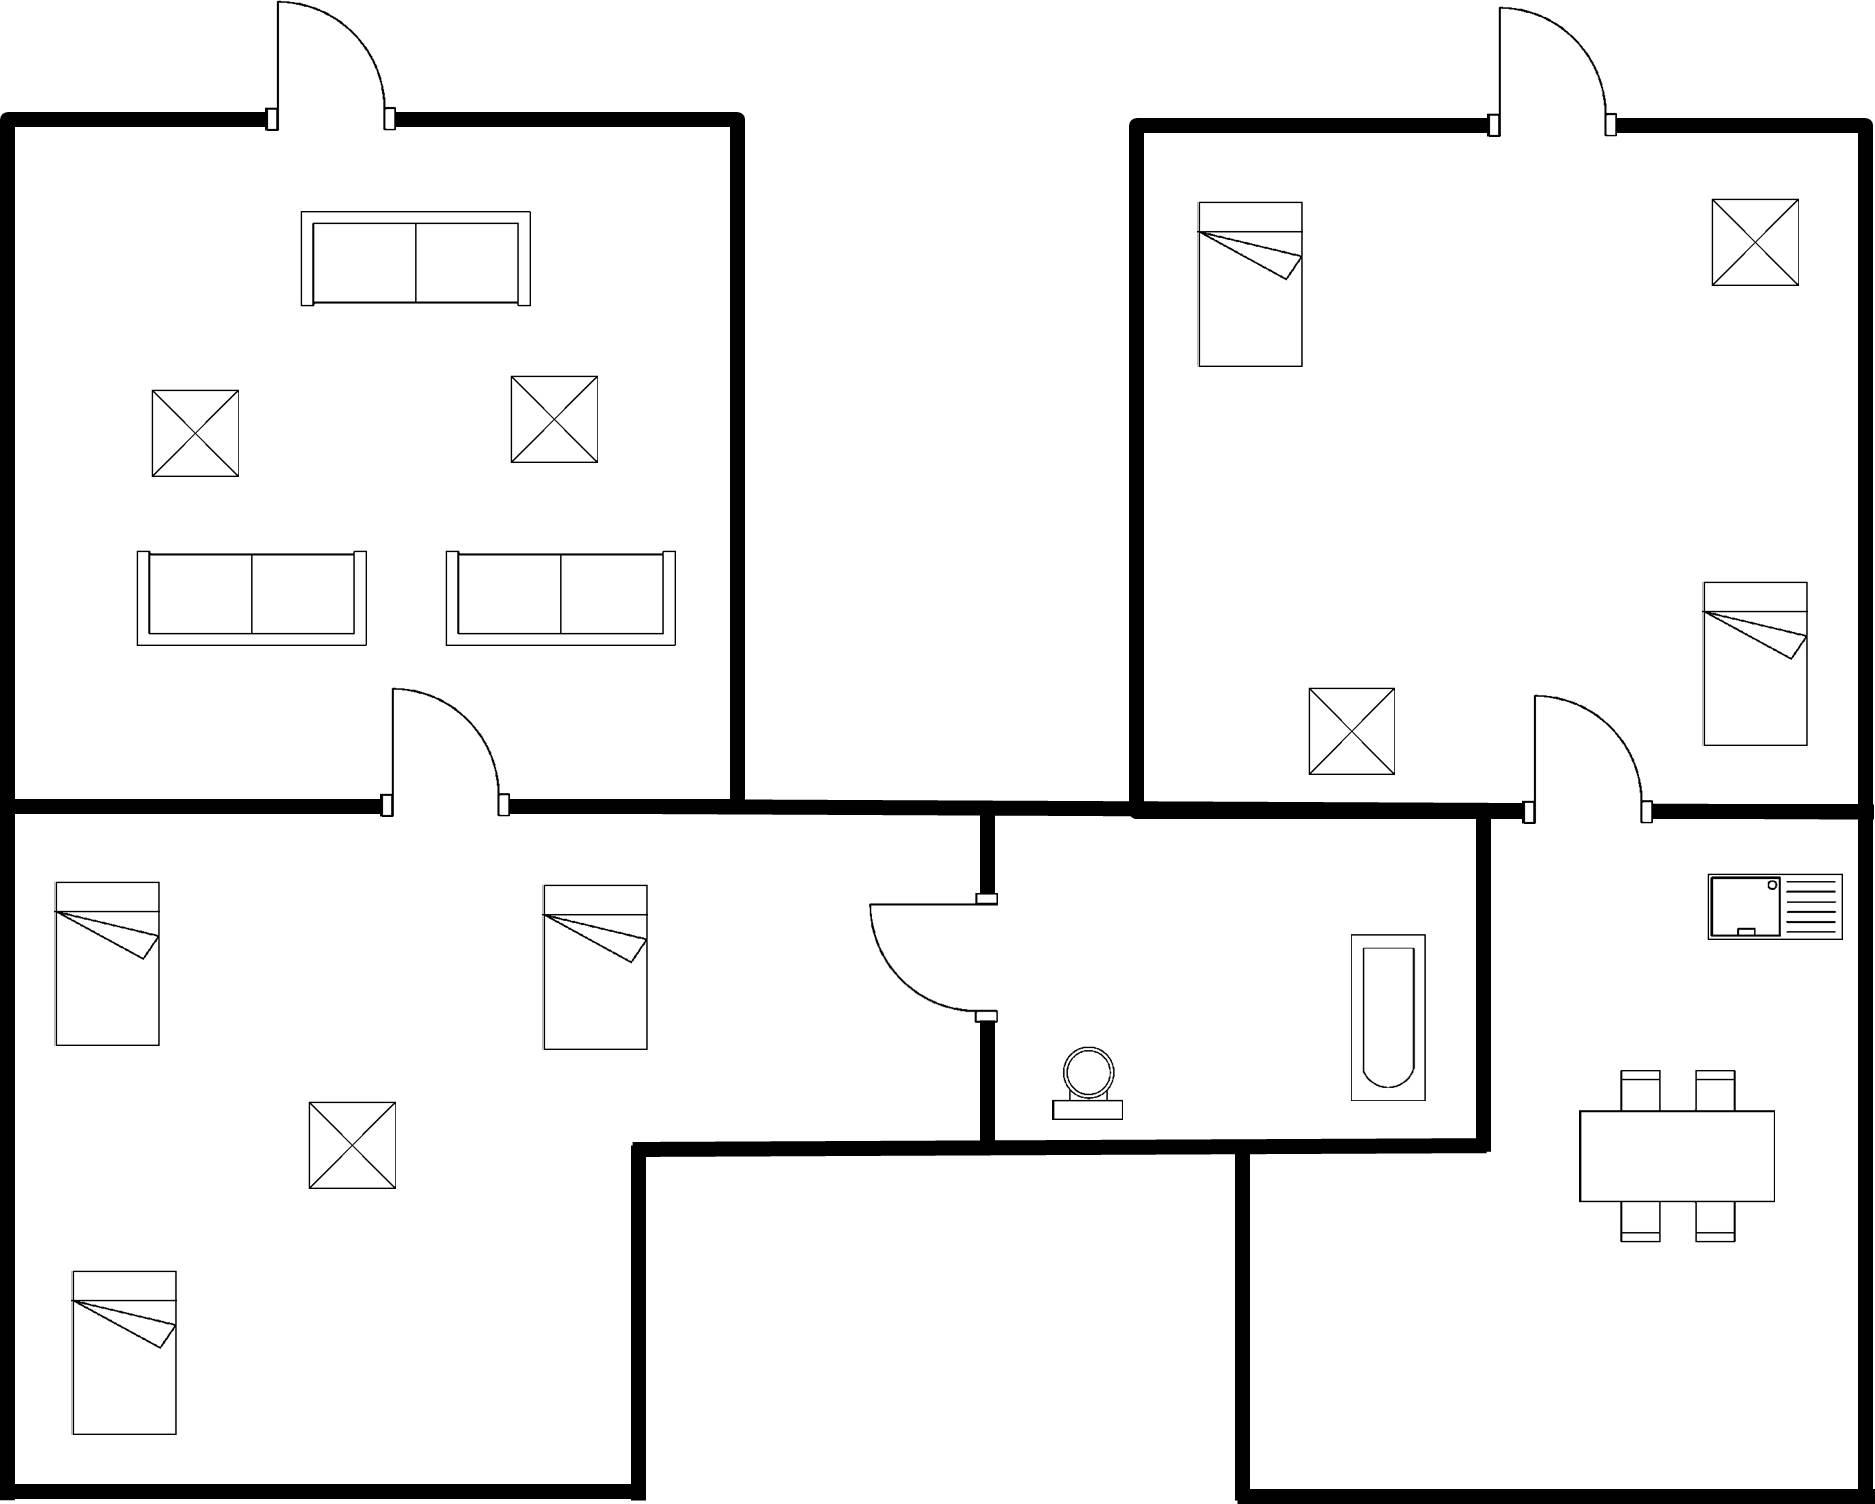bed: (43, 869, 175, 1057), (529, 873, 658, 1064), (1691, 571, 1820, 755), (1188, 186, 1312, 374), (61, 1258, 184, 1446)
dining_table: (1562, 1054, 1794, 1254)
sink: (1692, 867, 1850, 958)
sofa: (285, 200, 543, 321), (431, 542, 684, 660), (121, 542, 381, 657)
toilet: (1036, 1036, 1135, 1133)
tub: (1336, 922, 1438, 1111)
